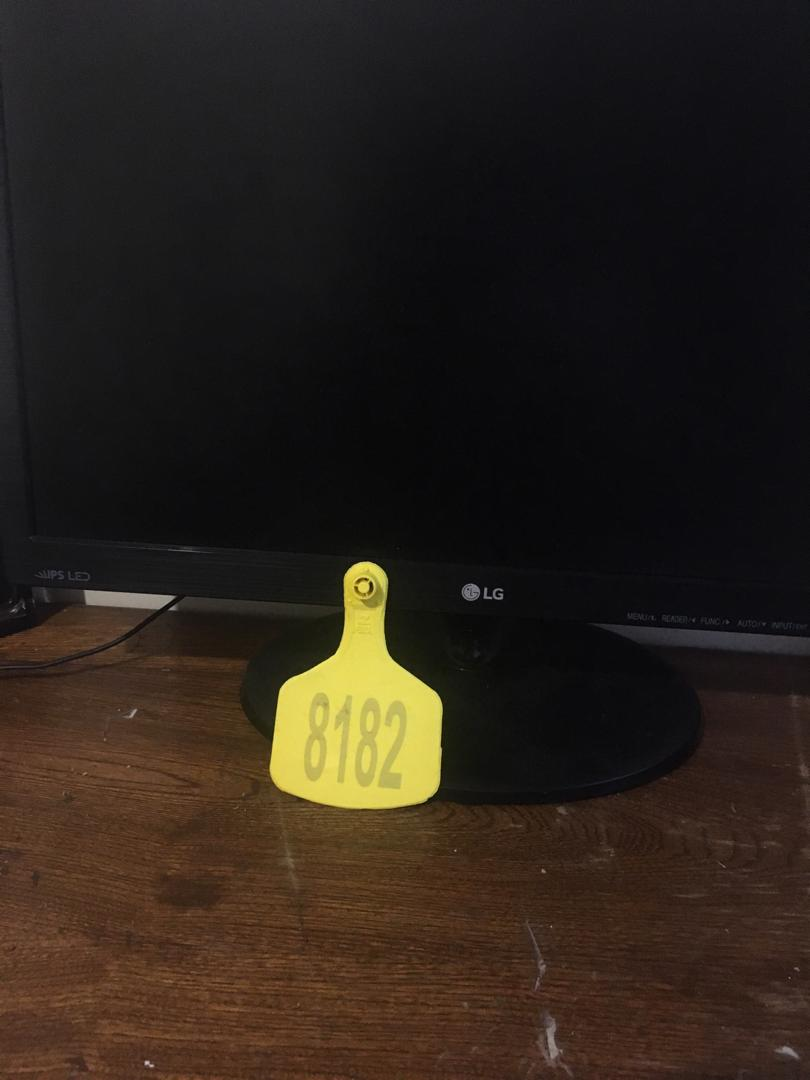digit: (301, 690, 409, 787)
